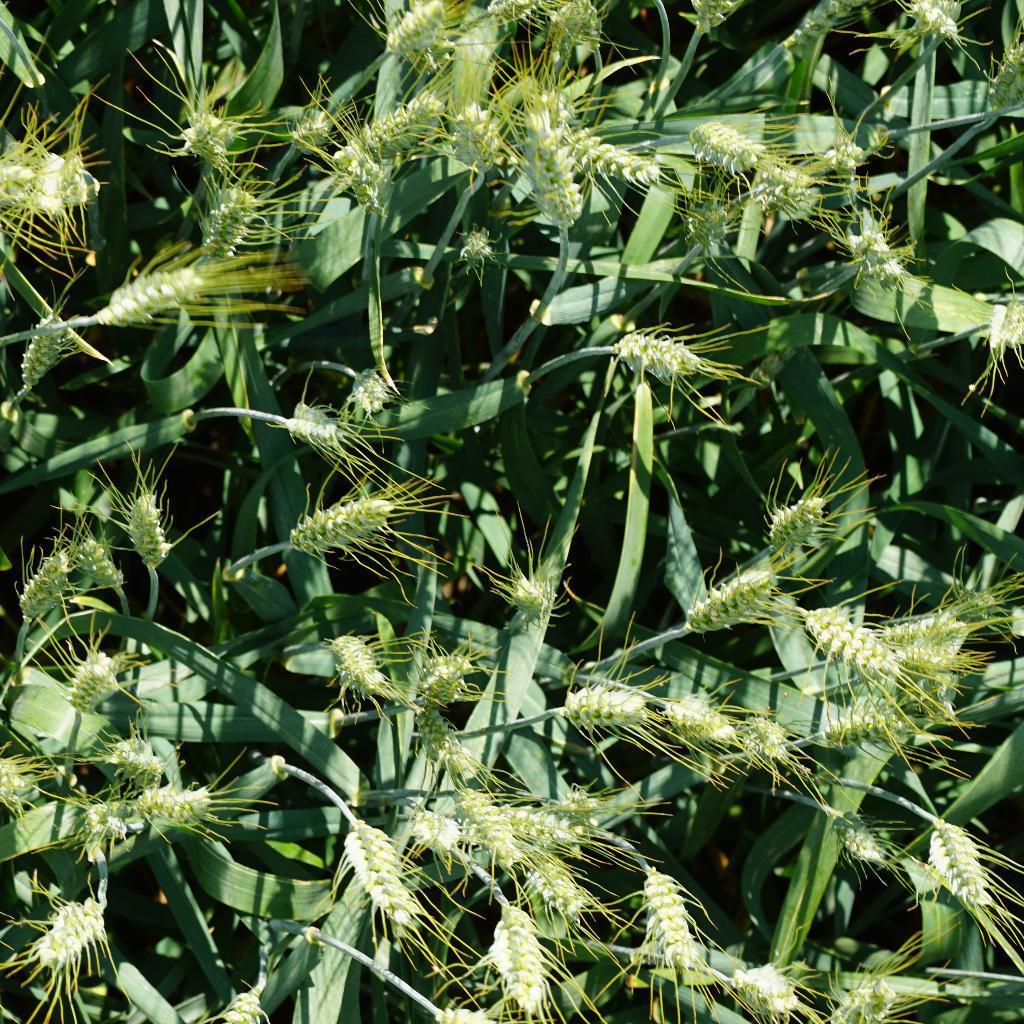0-0: (690, 109, 818, 201), (509, 81, 586, 230), (343, 818, 430, 935), (70, 784, 221, 843), (94, 262, 225, 328), (559, 109, 664, 190), (29, 882, 112, 982), (490, 904, 563, 1017), (613, 318, 728, 387), (286, 489, 402, 557), (642, 864, 713, 974), (310, 624, 403, 707), (886, 601, 986, 675), (314, 137, 402, 220), (807, 602, 900, 680), (930, 811, 1001, 909), (681, 563, 784, 630), (781, 0, 901, 51), (183, 178, 269, 249), (358, 88, 453, 152), (119, 478, 183, 570), (163, 90, 238, 168), (732, 953, 814, 1024), (837, 220, 919, 288), (651, 684, 737, 747), (373, 0, 459, 62), (555, 679, 656, 731), (520, 789, 598, 856), (15, 305, 77, 389), (819, 702, 934, 747), (407, 707, 477, 780), (407, 641, 485, 706), (34, 135, 98, 209), (763, 486, 833, 552), (463, 788, 522, 866), (690, 179, 754, 250), (449, 97, 504, 179), (63, 643, 124, 716), (18, 545, 73, 624), (276, 396, 351, 451), (973, 292, 1024, 372), (96, 732, 175, 781), (406, 799, 467, 862), (550, 0, 615, 58), (742, 701, 800, 766), (830, 807, 892, 867), (531, 856, 594, 915), (832, 972, 900, 1024), (897, 0, 965, 51), (71, 530, 129, 589), (504, 571, 564, 628), (290, 85, 342, 145), (826, 131, 878, 190), (0, 158, 55, 212), (210, 985, 280, 1023), (354, 366, 399, 417), (455, 228, 497, 271)
